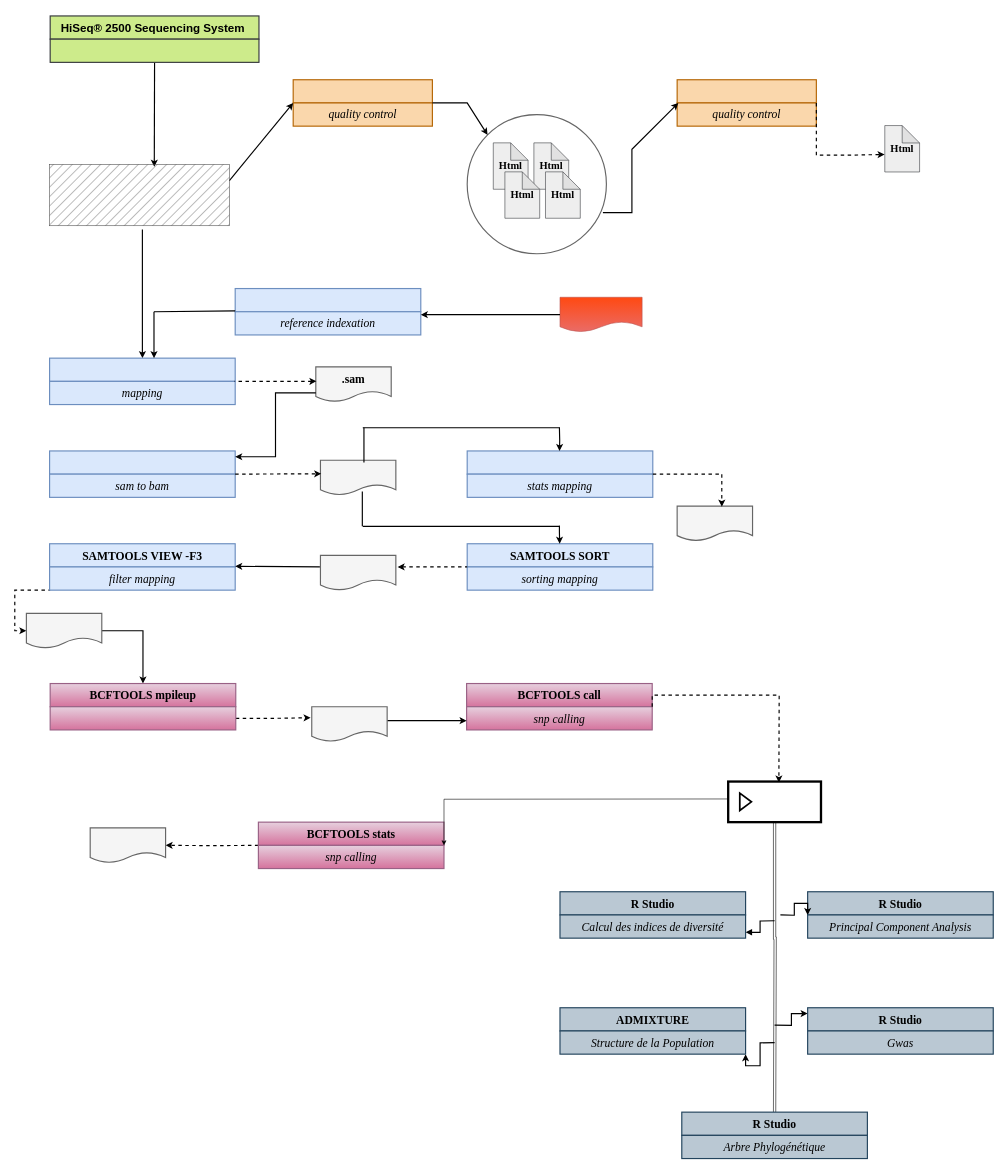
Some shapes in this 1003 by 1173 pixel diagram are drawn without their labels. Each missing label, with the box of its shape:
.bam: (320, 459, 396, 495)
.sorted.bam: (320, 554, 396, 590)
.sorted.mapped .bam: (26, 612, 102, 648)
.txt: (89, 827, 166, 863)
bcf: (311, 706, 387, 742)
BWAMEM2 INDEX: (234, 288, 421, 312)
BWAMEM2 MEM: (49, 357, 235, 382)
FASTQC: (292, 79, 433, 103)
MULTIQC: (676, 79, 817, 103)
reference.fasta: (559, 297, 642, 332)
SAMTOOLS FLAGSTATS: (466, 450, 653, 474)
SAMTOOLS VIEW: (49, 450, 235, 474)
sorted stats.txt: (676, 505, 753, 541)
VCF: (727, 780, 822, 823)
